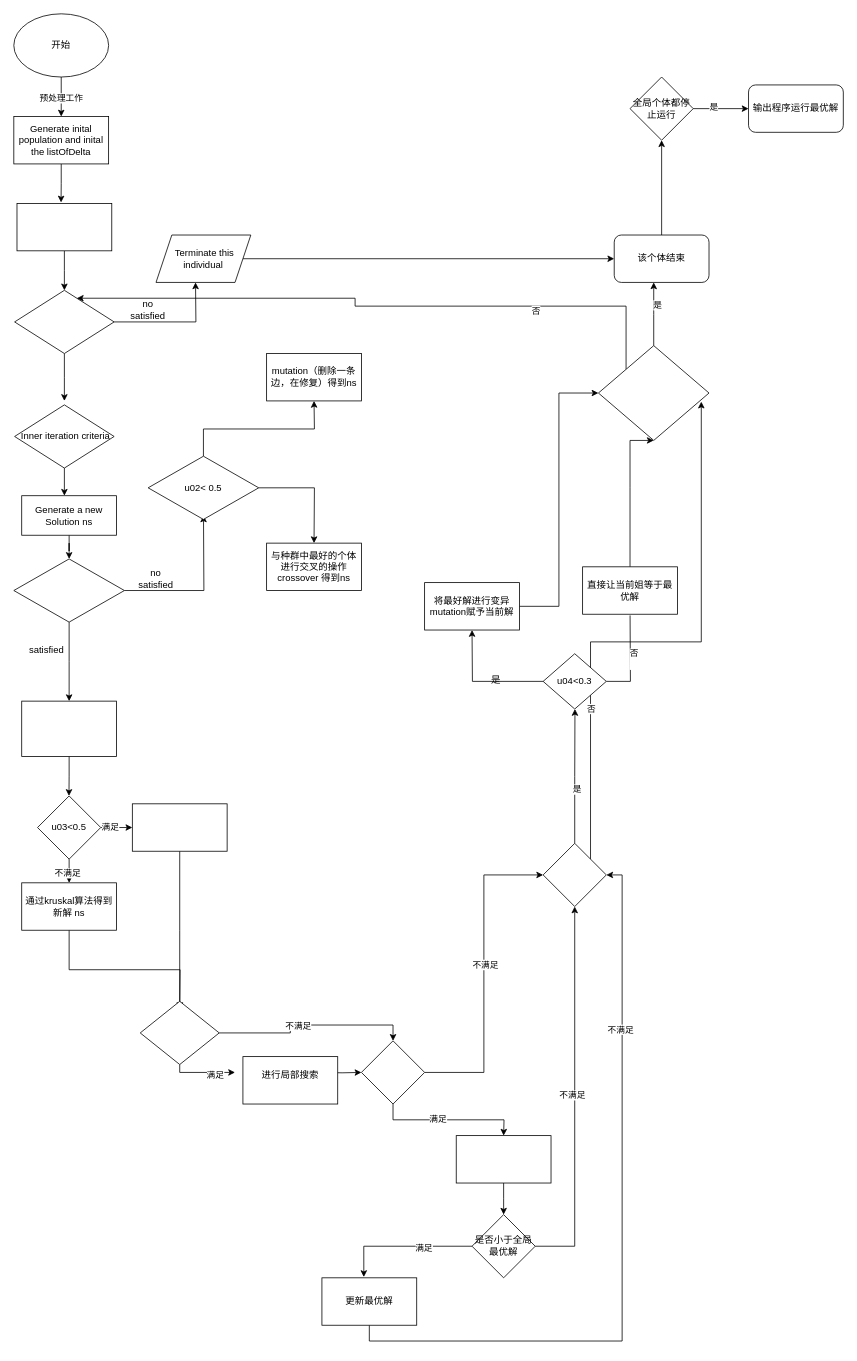
The diagram is 857 pixels wide and 1361 high, and some of its shapes have lost their labels. Each missing label, with the box of its shape:
for each pop: (16, 203, 112, 251)
Outer iteration criteria: (14, 290, 114, 354)
u01< Disturbance coefficient: (13, 558, 124, 622)
是否满足接受较差解准则: (361, 1040, 425, 1104)
更新该个体等于ns: (455, 1135, 551, 1183)
未改善超过特定阈值: (542, 843, 606, 907)
满足局部搜索条件: (139, 1001, 219, 1065)
获取当前个体的边集通过添加近邻边: (21, 700, 117, 756)
超过某阈值: (598, 345, 709, 440)
通过prim算法得到新解 ns: (132, 803, 227, 851)
